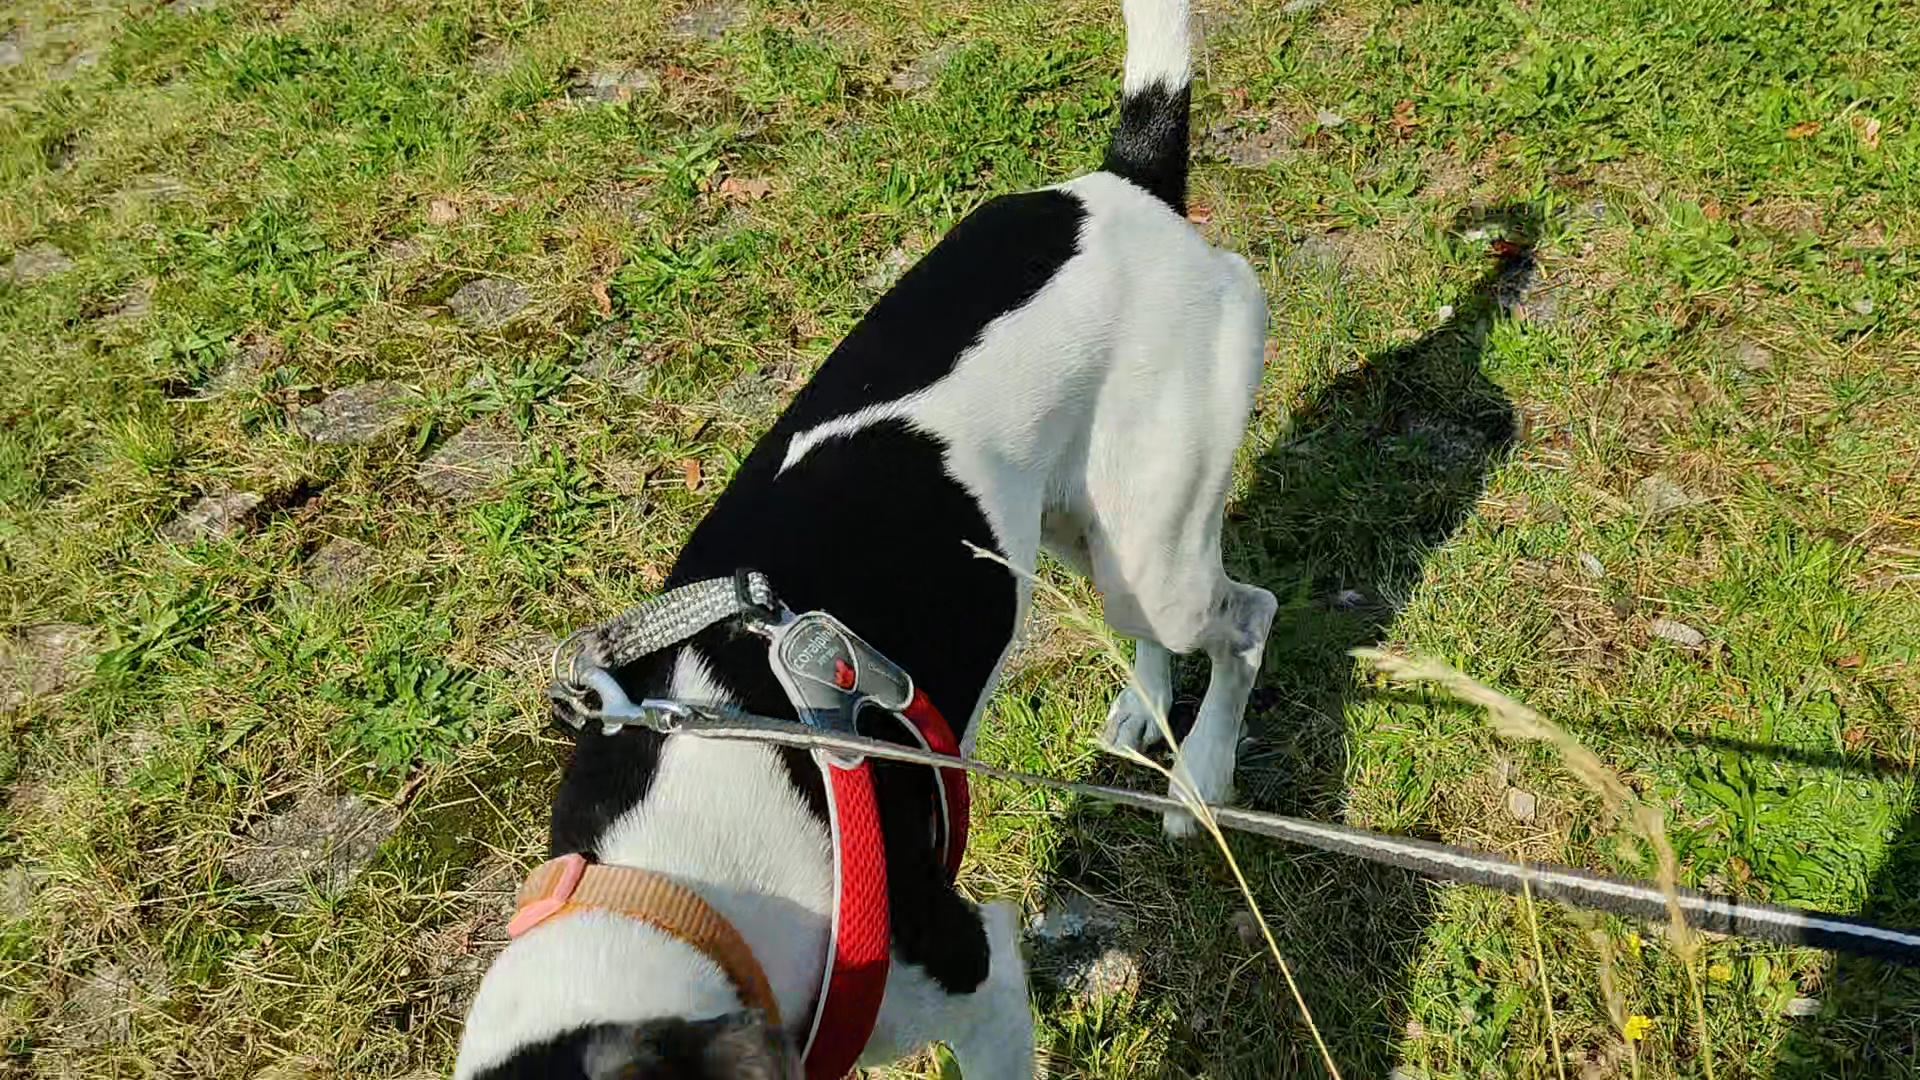Dog: (415, 0, 1288, 1079)
